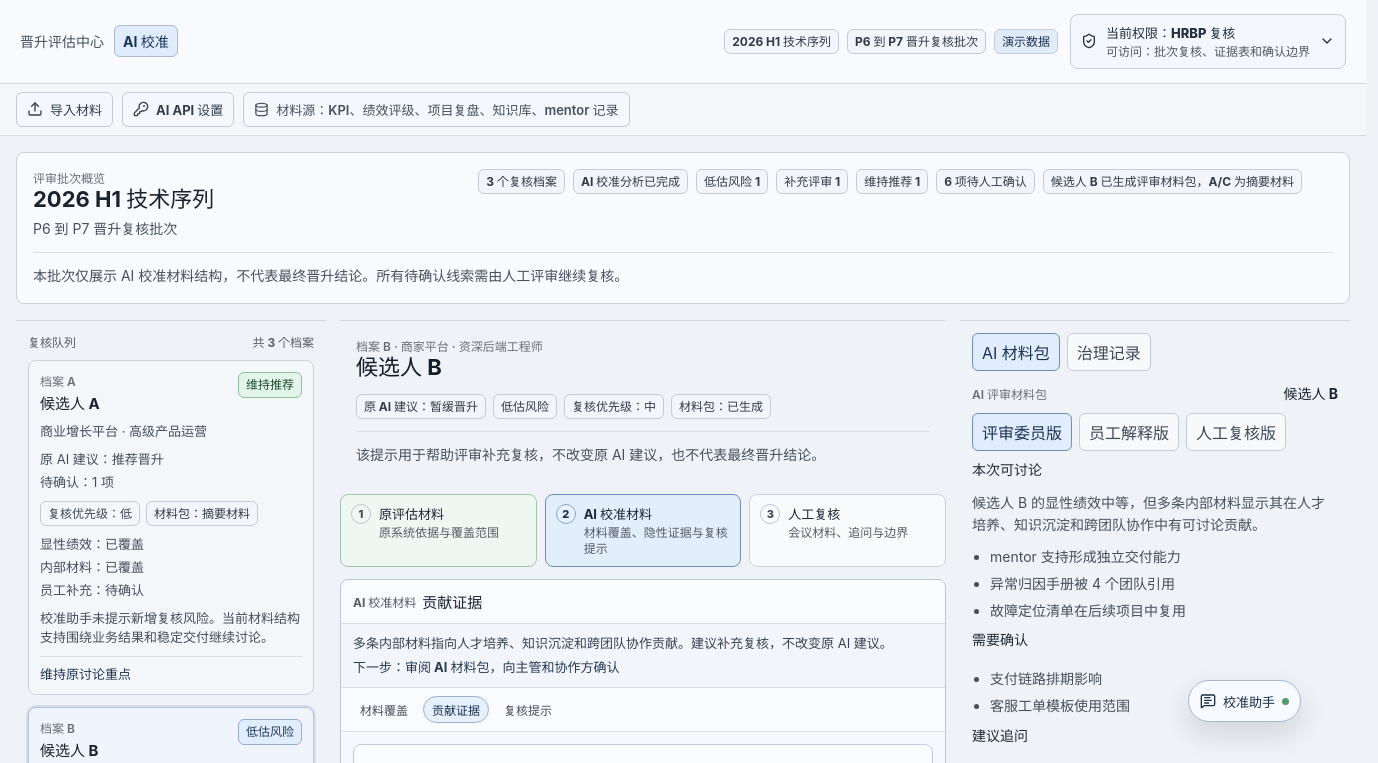
Test: promotion assessment center AI calibration module › opens, closes, docks, and reopens the calibration assistant
What coordinates should you click on to do the following:
click the button with aria-label "打开校准助手"
I would click on:
 (1244, 701)
Its box is [1188,680,1301,722].
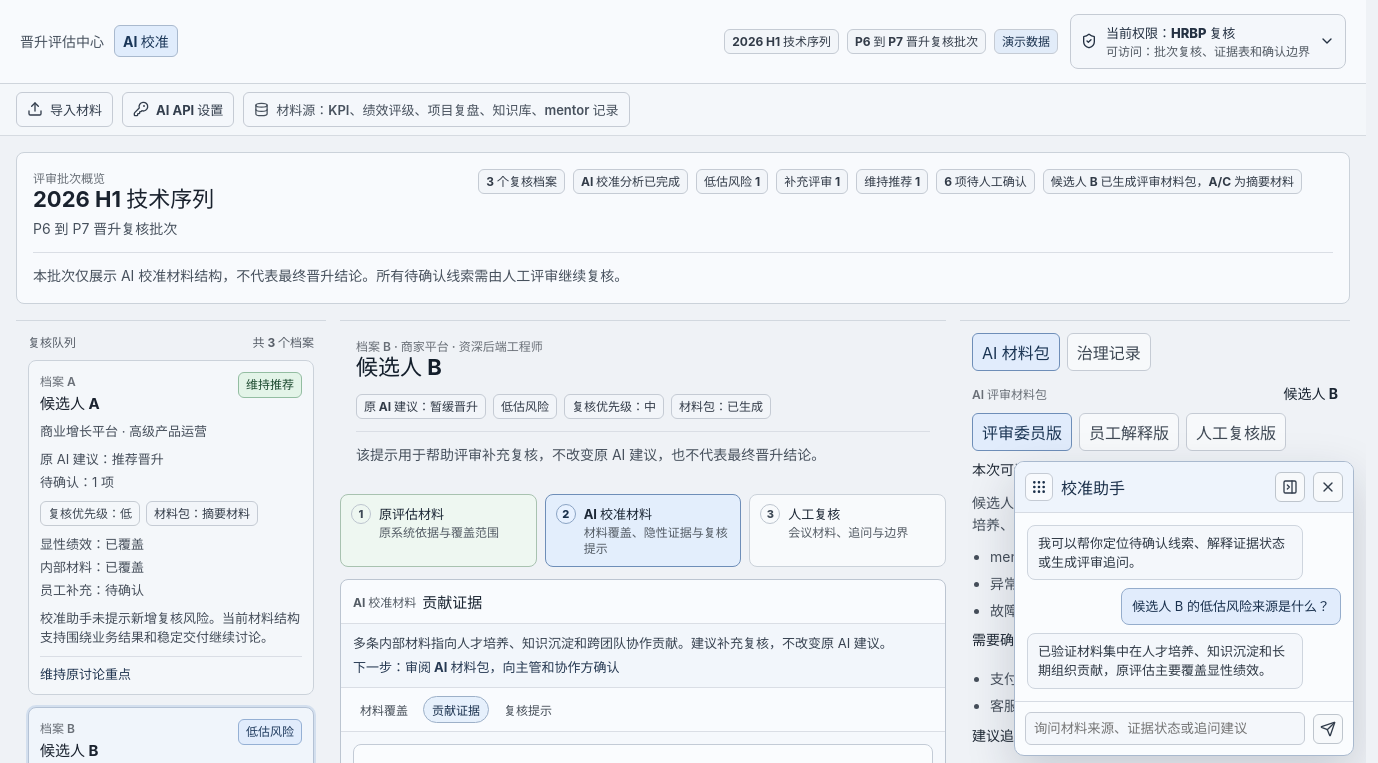
Result: the text "候选人 B 的低估风险来源是什么？" is shown at [1121,588,1341,625]
What coordinates should you click on to do the following:
click the button named "关闭助手"
I would click on:
 (1328, 487)
Its box is [1313,472,1343,502].
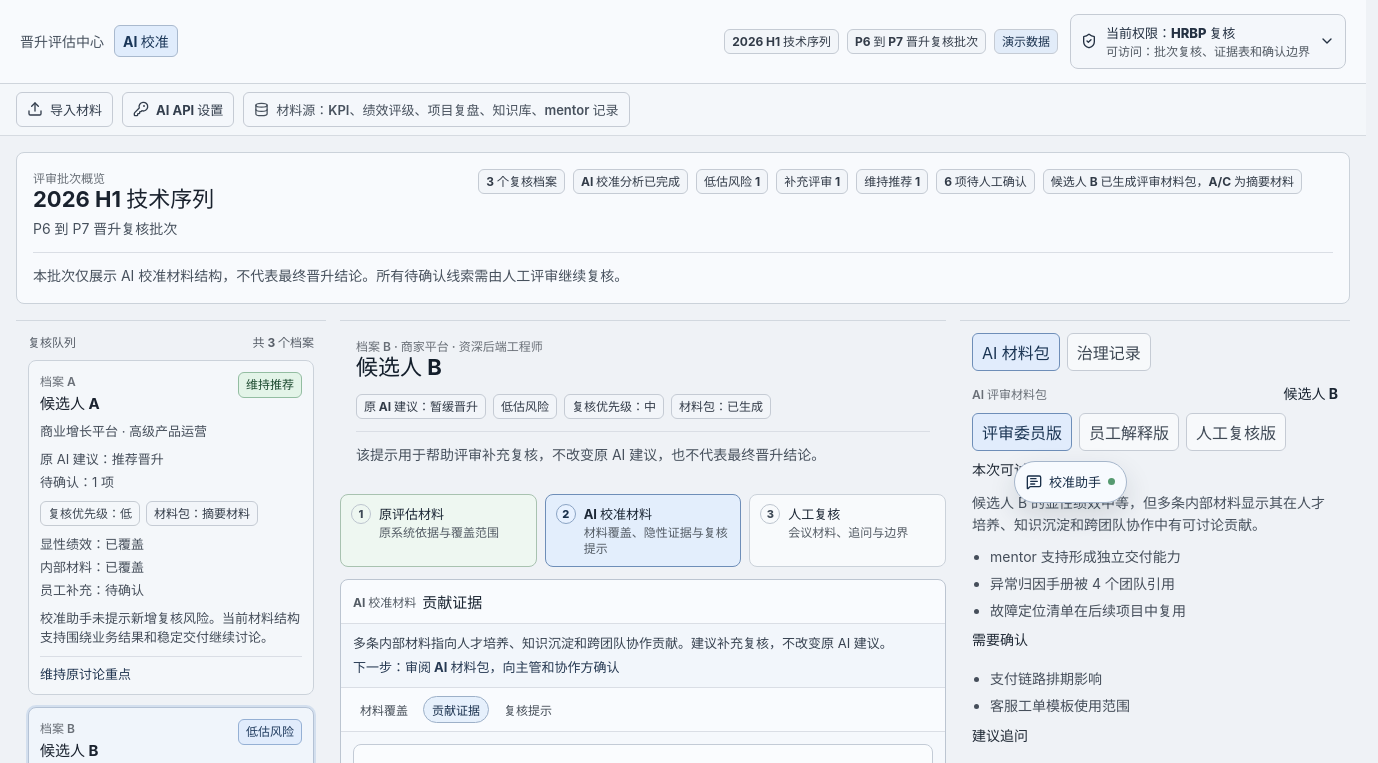
What coordinates should you click on to do the following:
click the button with aria-label "打开校准助手"
I would click on:
 (1070, 482)
Its box is [1014,461,1127,503].
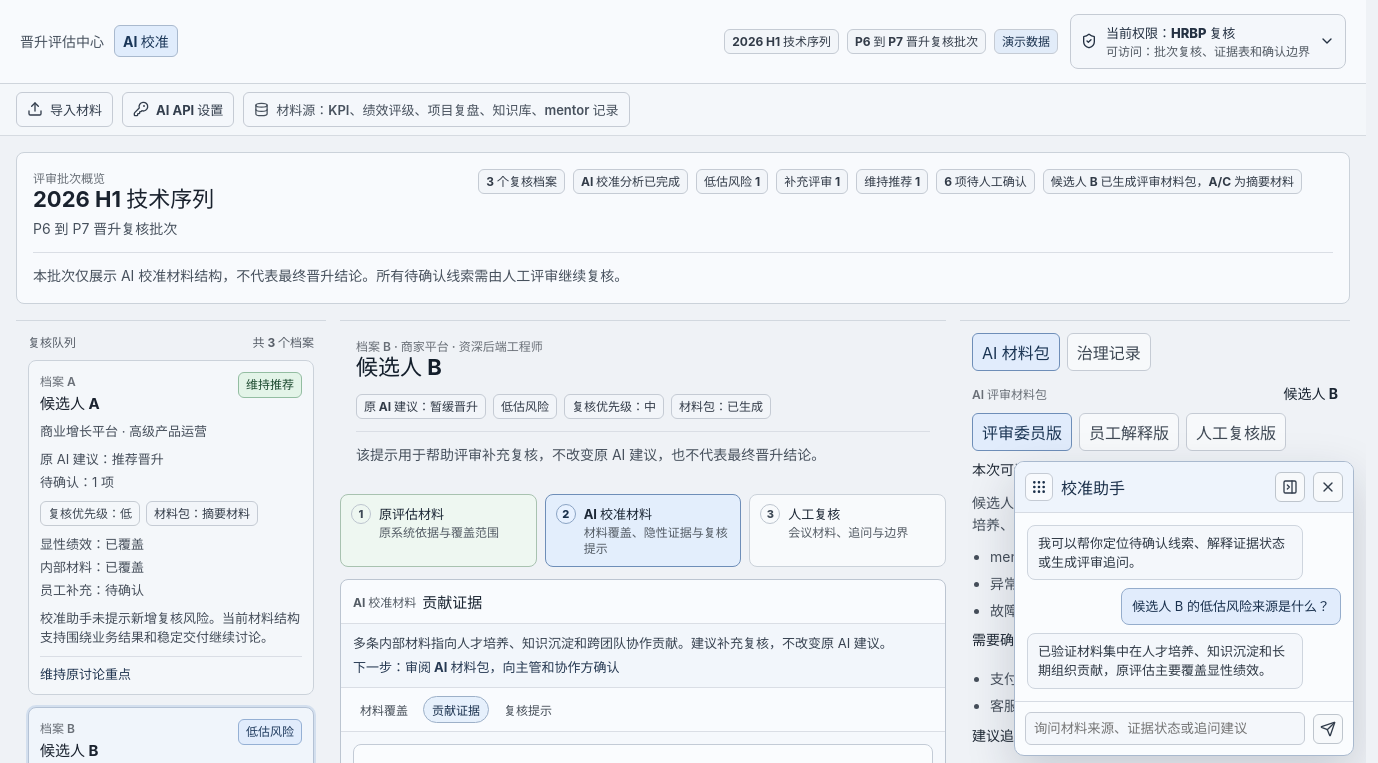
What coordinates should you click on to do the following:
click the button named "收纳助手"
I would click on:
 (1290, 487)
Its box is [1275,472,1305,502].
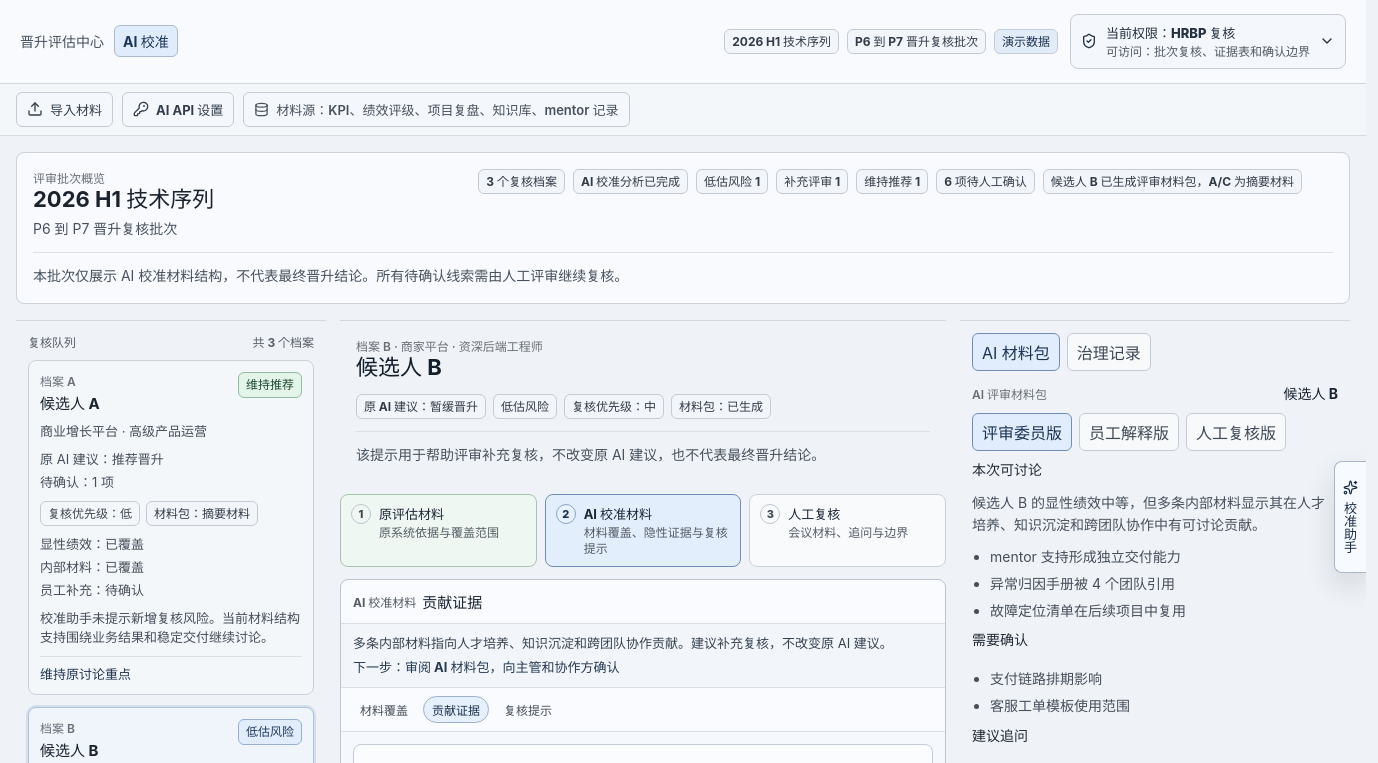
What coordinates should you click on to do the following:
click the button with aria-label "展开校准助手"
I would click on:
 (1350, 517)
Its box is [1334,461,1366,573].
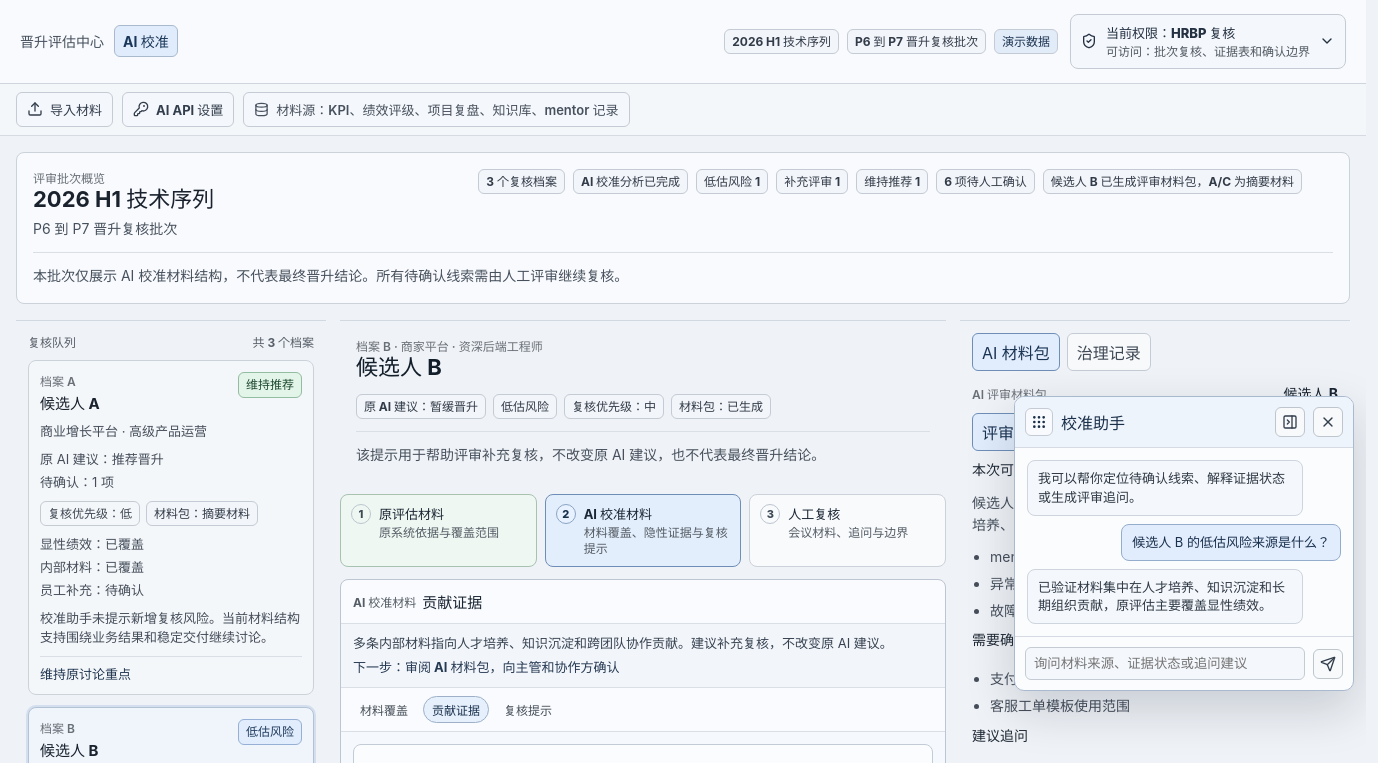
Result: the button named "关闭助手" is shown at [1313,407,1343,437]
